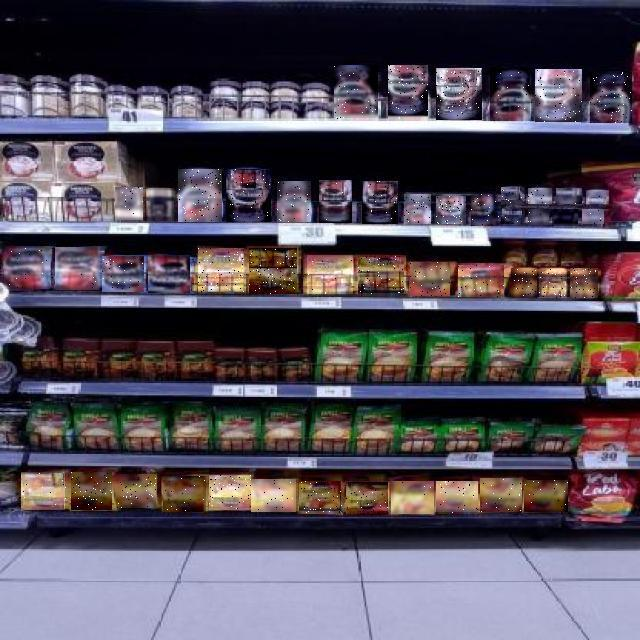Coffee: (535, 69, 582, 122), (436, 68, 482, 120), (226, 169, 271, 222), (334, 66, 378, 120), (178, 169, 222, 222), (249, 248, 297, 294), (389, 66, 429, 120), (590, 72, 632, 123), (490, 68, 530, 121), (198, 248, 244, 292), (4, 246, 50, 289), (56, 247, 102, 290), (359, 256, 405, 296), (307, 255, 353, 294), (22, 472, 68, 510), (148, 255, 190, 293), (164, 476, 208, 512), (71, 472, 112, 510), (320, 180, 356, 223), (362, 181, 398, 224), (252, 479, 298, 512), (102, 256, 144, 292), (459, 265, 505, 297), (209, 475, 251, 510), (480, 479, 522, 513), (391, 481, 434, 514), (524, 480, 568, 512), (300, 482, 344, 514), (277, 181, 311, 222), (346, 482, 388, 515), (410, 262, 450, 296), (116, 475, 156, 509), (436, 482, 478, 514), (115, 188, 143, 222), (472, 194, 500, 226), (148, 188, 174, 221), (436, 196, 466, 224), (571, 268, 599, 298), (539, 268, 567, 298), (404, 194, 431, 224), (511, 268, 537, 298), (554, 210, 578, 228), (556, 188, 582, 204), (528, 188, 552, 204), (502, 188, 524, 204), (582, 210, 604, 226), (501, 208, 522, 224), (528, 209, 549, 225), (586, 190, 609, 204)
